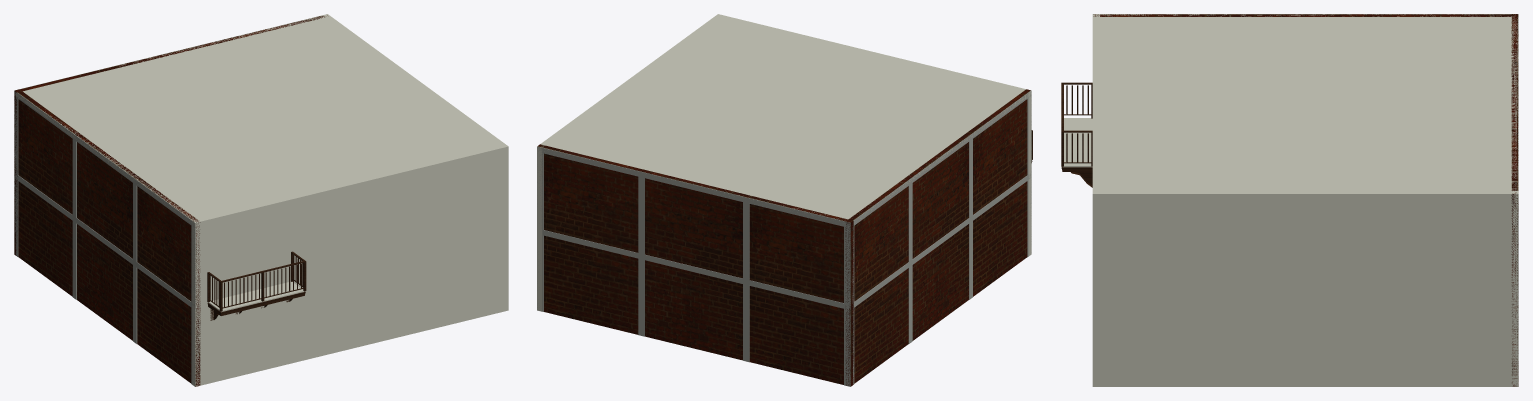
The model's file is building.glb.
The picture shows the model from 3 angles, left to right: view 1: azimuth 30°, elevation 25°; view 2: azimuth 150°, elevation 25°; view 3: azimuth 270°, elevation 25°; orthographic projection. The views are drawn at different scales.
Visible parts, largest first — view 1: roof/house:0/roof_slab#0001, house:0/edge0/z0/house:0/edge0/z0/wall_0_0, house:0/edge3/z0/house:0/edge3/z0/wall_0_0, house:0/edge2/z0/house:0/edge2/z0/wall_0_0, house:0/edge3/z0/house:0/edge3/z0/beam_0_0, house:0/edge3/z0/house:0/edge3/z0/beam_1_0, house:0/edge1/z0/house:0/edge1/z0/wall_0_0, balcony/sample/balcony_platform#0001, balcony/sample/balcony_fascia#0001; view 2: roof/house:0/roof_slab#0001, house:0/edge2/z0/house:0/edge2/z0/wall_0_0, house:0/edge3/z0/house:0/edge3/z0/wall_0_0, house:0/edge1/z0/house:0/edge1/z0/wall_0_0, house:0/edge2/z0/house:0/edge2/z0/beam_1_0, house:0/edge2/z0/house:0/edge2/z0/beam_0_0, house:0/edge0/z0/house:0/edge0/z0/wall_0_0, house:0/edge3/z0/house:0/edge3/z0/beam_0_0, house:0/edge3/z0/house:0/edge3/z0/beam_1_0, house:0/edge2/z0/house:0/edge2/z0/column_2_0, house:0/edge2/z0/house:0/edge2/z0/column_2_1, house:0/edge2/z0/house:0/edge2/z0/column_3_0 (+3 smaller); view 3: house:0/edge1/z0/house:0/edge1/z0/wall_0_0, roof/house:0/roof_slab#0001, house:0/edge0/z0/house:0/edge0/z0/wall_0_0, house:0/edge2/z0/house:0/edge2/z0/wall_0_0, balcony/sample/balcony_platform#0001, house:0/edge3/z0/house:0/edge3/z0/wall_0_0.
Boxes of the visible parts, left/top/right/bottom form: roof/house:0/roof_slab#0001: left=15, top=14, right=506, bottom=225; house:0/edge0/z0/house:0/edge0/z0/wall_0_0: left=192, top=144, right=508, bottom=386; house:0/edge3/z0/house:0/edge3/z0/wall_0_0: left=17, top=89, right=200, bottom=386; house:0/edge2/z0/house:0/edge2/z0/wall_0_0: left=14, top=15, right=327, bottom=255; house:0/edge3/z0/house:0/edge3/z0/beam_0_0: left=14, top=173, right=195, bottom=309; house:0/edge3/z0/house:0/edge3/z0/beam_1_0: left=14, top=92, right=195, bottom=227; house:0/edge1/z0/house:0/edge1/z0/wall_0_0: left=323, top=14, right=508, bottom=311; balcony/sample/balcony_platform#0001: left=208, top=281, right=304, bottom=312; balcony/sample/balcony_fascia#0001: left=207, top=291, right=305, bottom=315; roof/house:0/roof_slab#0001: left=540, top=14, right=1031, bottom=223; house:0/edge2/z0/house:0/edge2/z0/wall_0_0: left=538, top=144, right=853, bottom=386; house:0/edge3/z0/house:0/edge3/z0/wall_0_0: left=845, top=89, right=1030, bottom=385; house:0/edge1/z0/house:0/edge1/z0/wall_0_0: left=537, top=15, right=722, bottom=311; house:0/edge2/z0/house:0/edge2/z0/beam_1_0: left=538, top=147, right=850, bottom=228; house:0/edge2/z0/house:0/edge2/z0/beam_0_0: left=542, top=230, right=850, bottom=309; house:0/edge0/z0/house:0/edge0/z0/wall_0_0: left=717, top=14, right=1031, bottom=256; house:0/edge3/z0/house:0/edge3/z0/beam_0_0: left=850, top=172, right=1031, bottom=309; house:0/edge3/z0/house:0/edge3/z0/beam_1_0: left=850, top=90, right=1031, bottom=227; house:0/edge2/z0/house:0/edge2/z0/column_2_0: left=638, top=176, right=644, bottom=254; house:0/edge2/z0/house:0/edge2/z0/column_2_1: left=638, top=258, right=644, bottom=336; house:0/edge2/z0/house:0/edge2/z0/column_3_0: left=743, top=202, right=749, bottom=280; house:0/edge1/z0/house:0/edge1/z0/wall_0_0: left=1092, top=191, right=1518, bottom=386; roof/house:0/roof_slab#0001: left=1092, top=14, right=1518, bottom=198; house:0/edge0/z0/house:0/edge0/z0/wall_0_0: left=1092, top=14, right=1099, bottom=386; house:0/edge2/z0/house:0/edge2/z0/wall_0_0: left=1511, top=14, right=1518, bottom=386; balcony/sample/balcony_platform#0001: left=1063, top=118, right=1092, bottom=167; house:0/edge3/z0/house:0/edge3/z0/wall_0_0: left=1093, top=14, right=1517, bottom=16.
Size of the model in its own units: 12 by 6 by 12.89.
4 materials, 2 textured.
